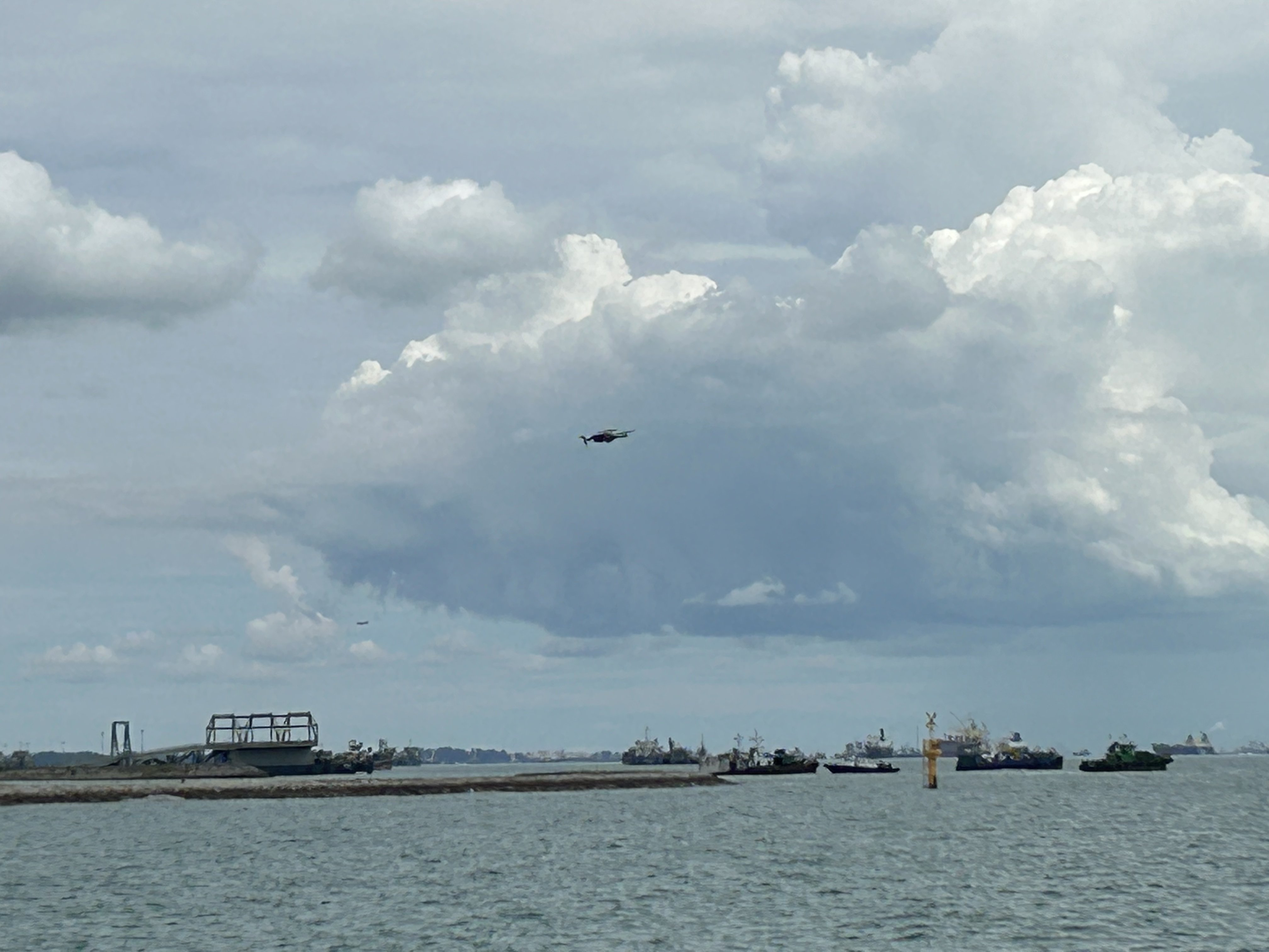drone_other: (577, 427, 637, 448)
